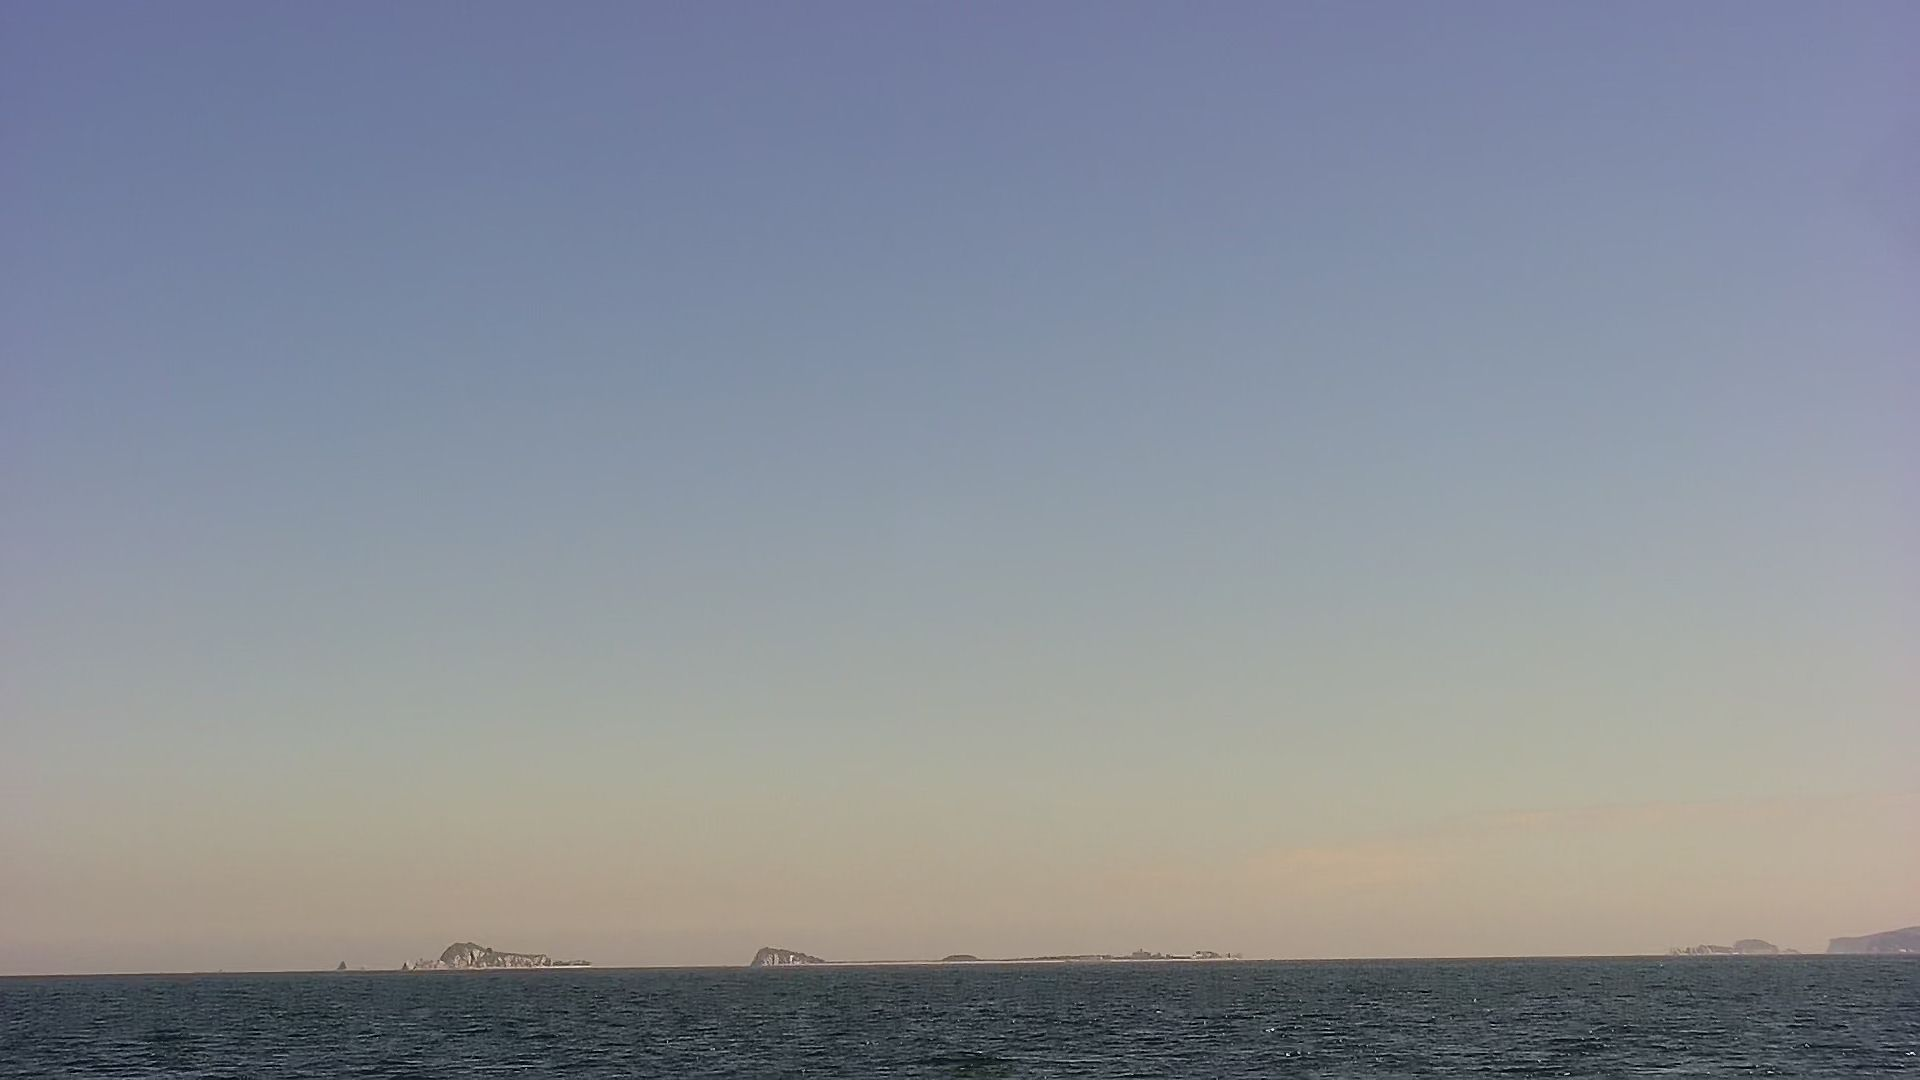rock: (396, 938, 592, 971), (942, 949, 1257, 967), (1675, 930, 1809, 964), (1826, 915, 1920, 955), (735, 936, 827, 967)
